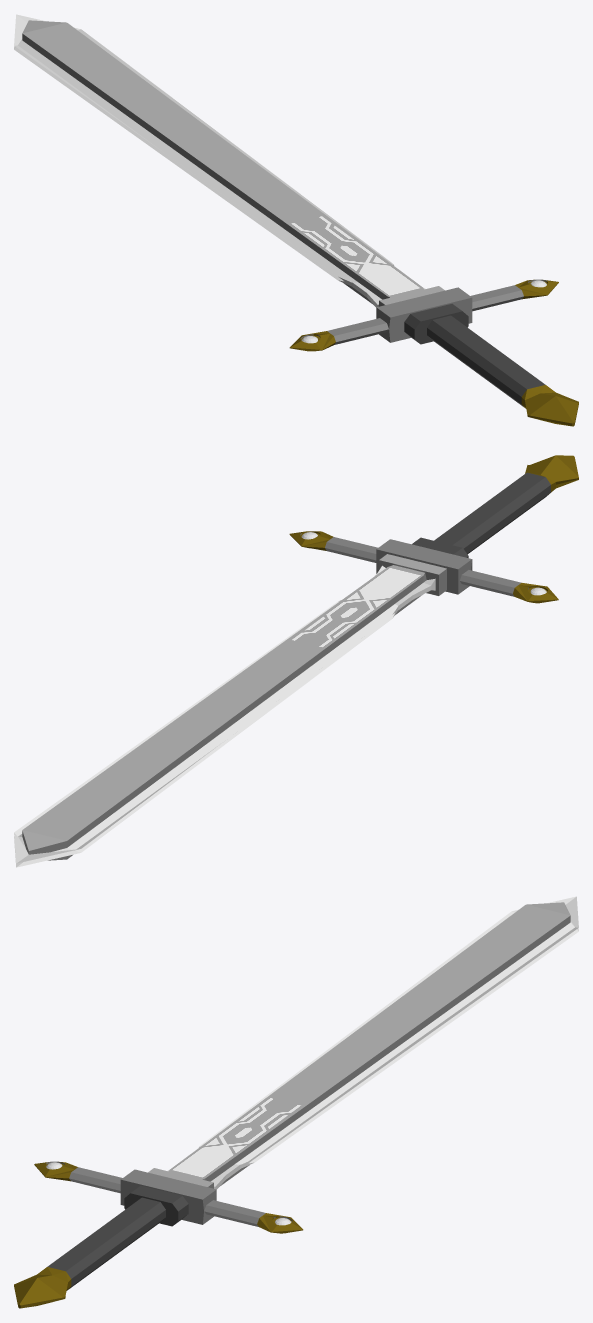
File: knightSword.fbx
3 views of the same model, one above another, from view 1: azimuth 30°, elevation 25°; view 2: azimuth 150°, elevation 25°; view 3: azimuth 330°, elevation 25° (orthographic).
Visible parts, largest first — view 1: blade, Grip, 立方体; view 2: blade, Grip, 立方体; view 3: blade, Grip, 立方体.
Part boxes in pixels (x1=…): blade: x1=14, y1=14, x2=444, y2=307; Grip: x1=404, y1=303, x2=578, y2=426; 立方体: x1=289, y1=279, x2=558, y2=351; blade: x1=14, y1=554, x2=446, y2=867; Grip: x1=412, y1=455, x2=578, y2=557; 立方体: x1=289, y1=531, x2=558, y2=603; blade: x1=148, y1=896, x2=578, y2=1189; Grip: x1=14, y1=1185, x2=188, y2=1308; 立方体: x1=34, y1=1161, x2=303, y2=1233.
Size of the model in its own units: 55.5 by 5.58 by 199.
Materials: 7 (1 with a texture image).
